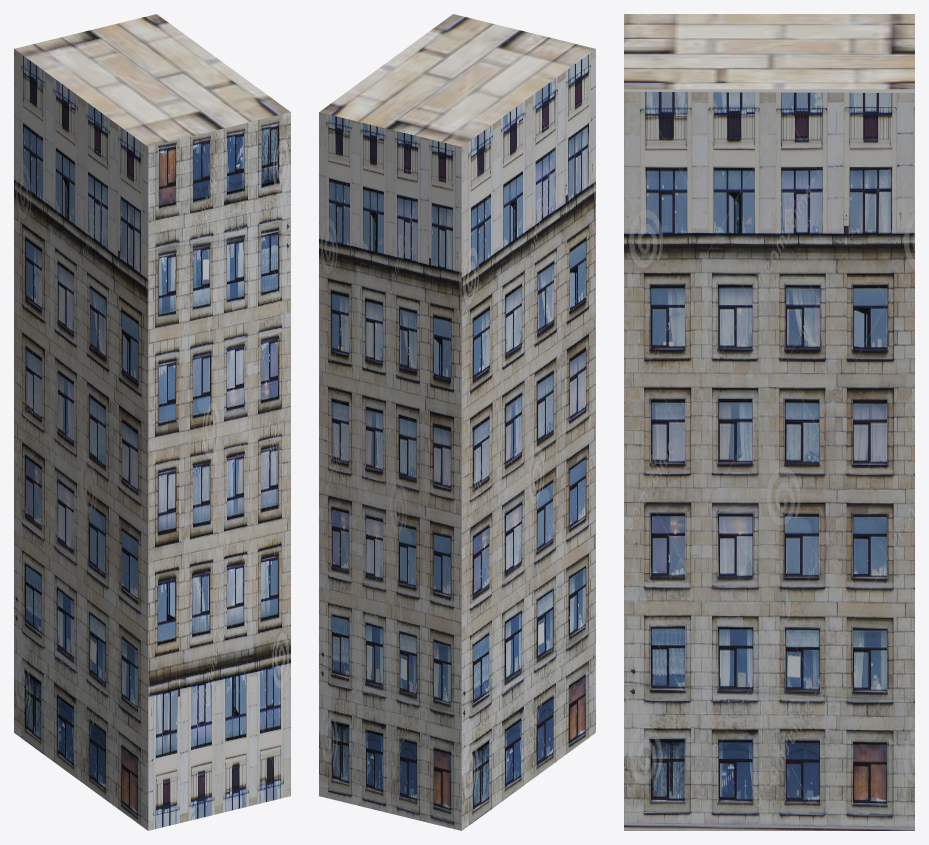
The model's file is edificio3_1.fbx.
3 views of the same model, side by side, from view 1: azimuth 30°, elevation 25°; view 2: azimuth 150°, elevation 25°; view 3: azimuth 270°, elevation 25° (orthographic). The views are drawn at different scales.
Parts seen in each view (by area): view 1: Cube; view 2: Cube; view 3: Cube.
Part boxes in pixels (<box>): Cube: <box>14,14,290,830</box>; Cube: <box>319,14,595,830</box>; Cube: <box>624,14,914,830</box>.
Bounding box in the file's own units: 284 × 1299 × 462.
